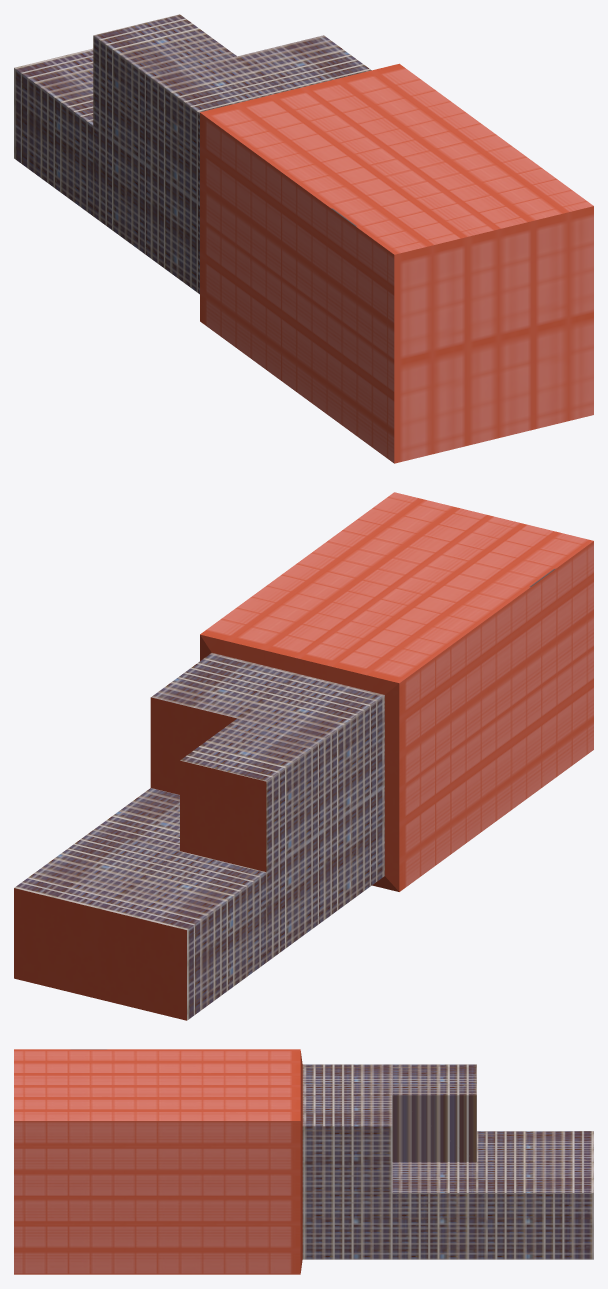
The model's file is buildings-comercial-10.obj.
3 renders of one model, top to bottom at view 1: azimuth 30°, elevation 25°; view 2: azimuth 150°, elevation 25°; view 3: azimuth 270°, elevation 25°, orthographic. The views are drawn at different scales.
Parts seen in each view (by area): view 1: buildings-comercial-10_Cube.101; view 2: buildings-comercial-10_Cube.101; view 3: buildings-comercial-10_Cube.101.
Part boxes in pixels (left/top/right/bottom): buildings-comercial-10_Cube.101: left=14, top=14, right=593, bottom=463; buildings-comercial-10_Cube.101: left=14, top=492, right=593, bottom=1020; buildings-comercial-10_Cube.101: left=14, top=1049, right=593, bottom=1274.
Bounding box in the file's own units: 3.3 × 3.3 × 11.27.
